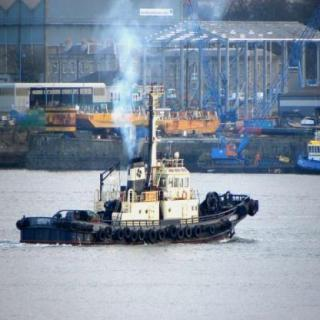Tug Boat: (19, 31, 270, 240)
